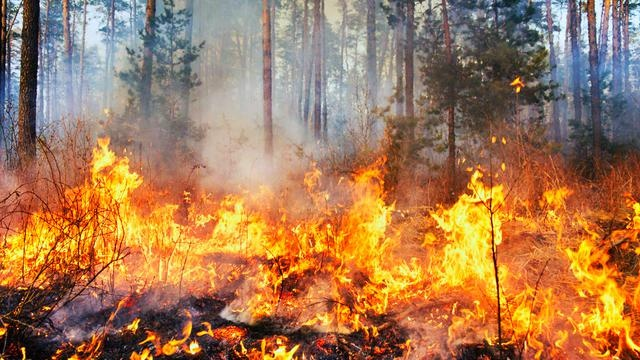fire: (46, 136, 634, 360), (507, 73, 524, 93)
